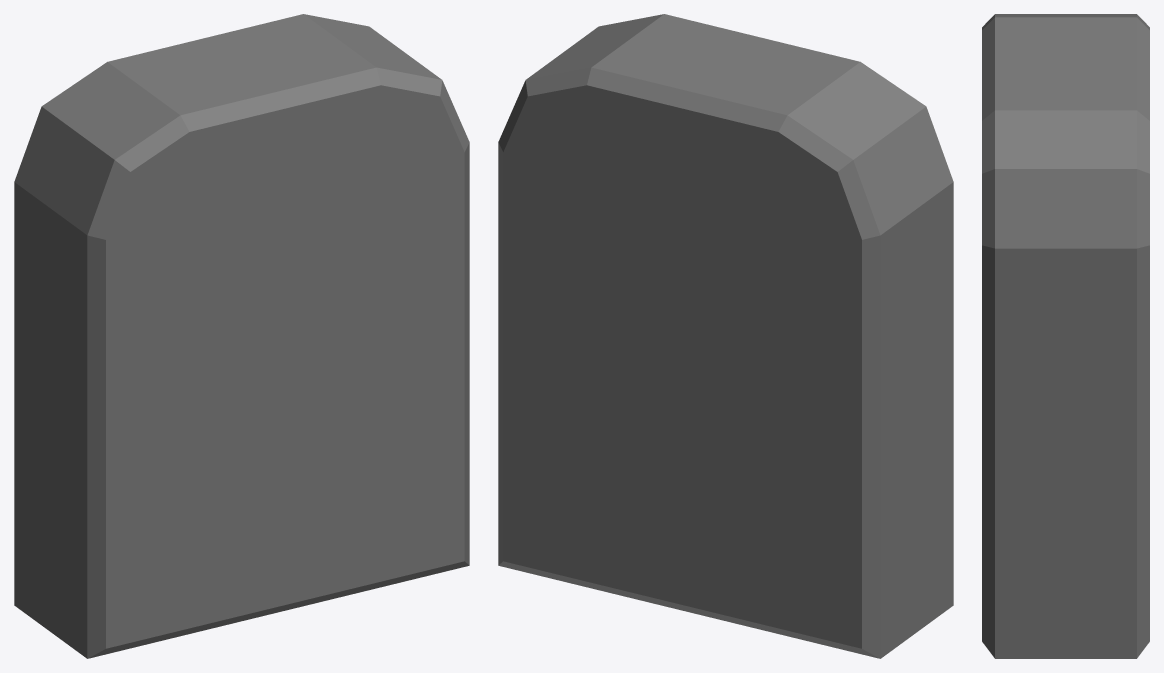
Rendered from Grave.obj.
The picture shows the model from 3 angles, left to right: view 1: azimuth 30°, elevation 25°; view 2: azimuth 150°, elevation 25°; view 3: azimuth 270°, elevation 25°; orthographic projection. The views are drawn at different scales.
Visible parts, largest first — view 1: Cube.002_Cube.003; view 2: Cube.002_Cube.003; view 3: Cube.002_Cube.003.
Boxes of the visible parts, x1=… form: Cube.002_Cube.003: x1=14, y1=14, x2=469, y2=658; Cube.002_Cube.003: x1=498, y1=14, x2=953, y2=658; Cube.002_Cube.003: x1=982, y1=14, x2=1149, y2=658.
Bounding box in the file's own units: 2 × 2.6 × 0.785.
Materials: 1 (1 with a texture image).
